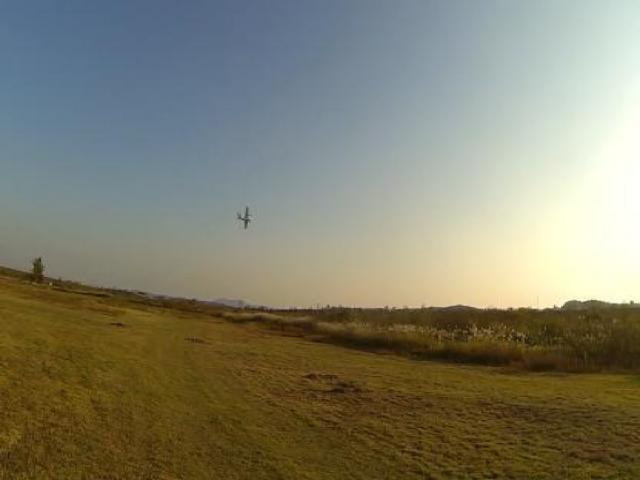uav: (229, 198, 260, 239)
